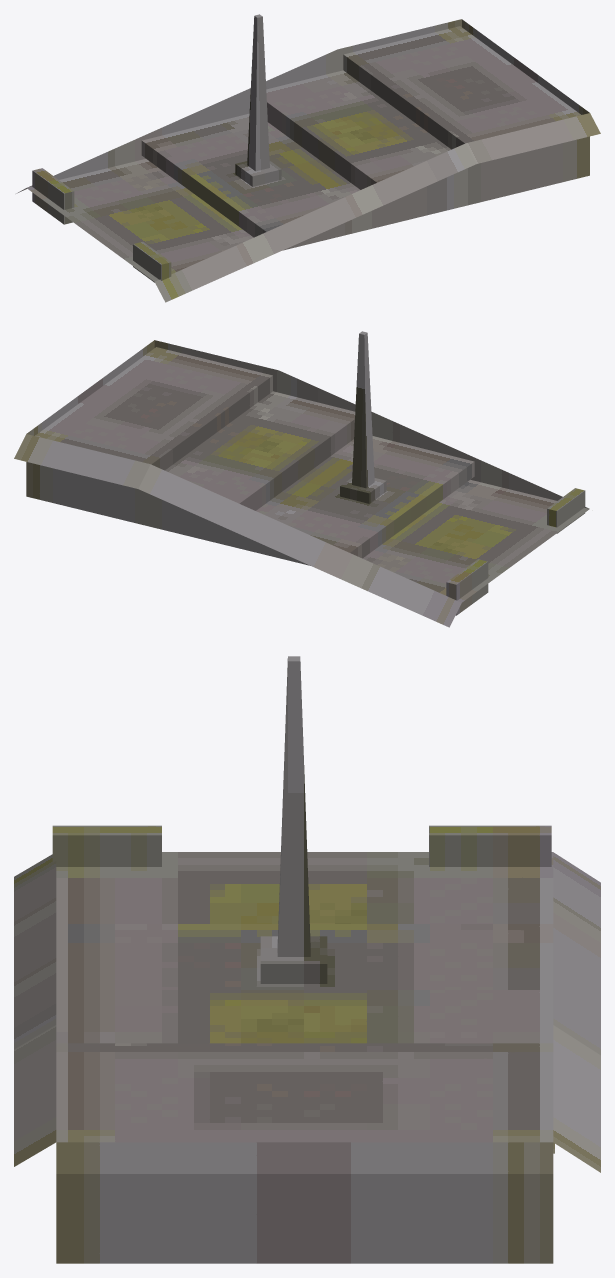
Rendered from loda73.obj.
3 views of the same model, one above another, from view 1: azimuth 30°, elevation 25°; view 2: azimuth 150°, elevation 25°; view 3: azimuth 270°, elevation 25° (orthographic). The views are drawn at different scales.
Parts seen in each view (by area): view 1: LODA73; view 2: LODA73; view 3: LODA73.
Boxes of the visible parts, left/top/right/bottom form: LODA73: left=16, top=14, right=600, bottom=302; LODA73: left=14, top=331, right=589, bottom=627; LODA73: left=14, top=656, right=600, bottom=1263.
Size of the model in its own units: 81.26 by 34.71 by 48.56.
Materials: 1 (1 with a texture image).
